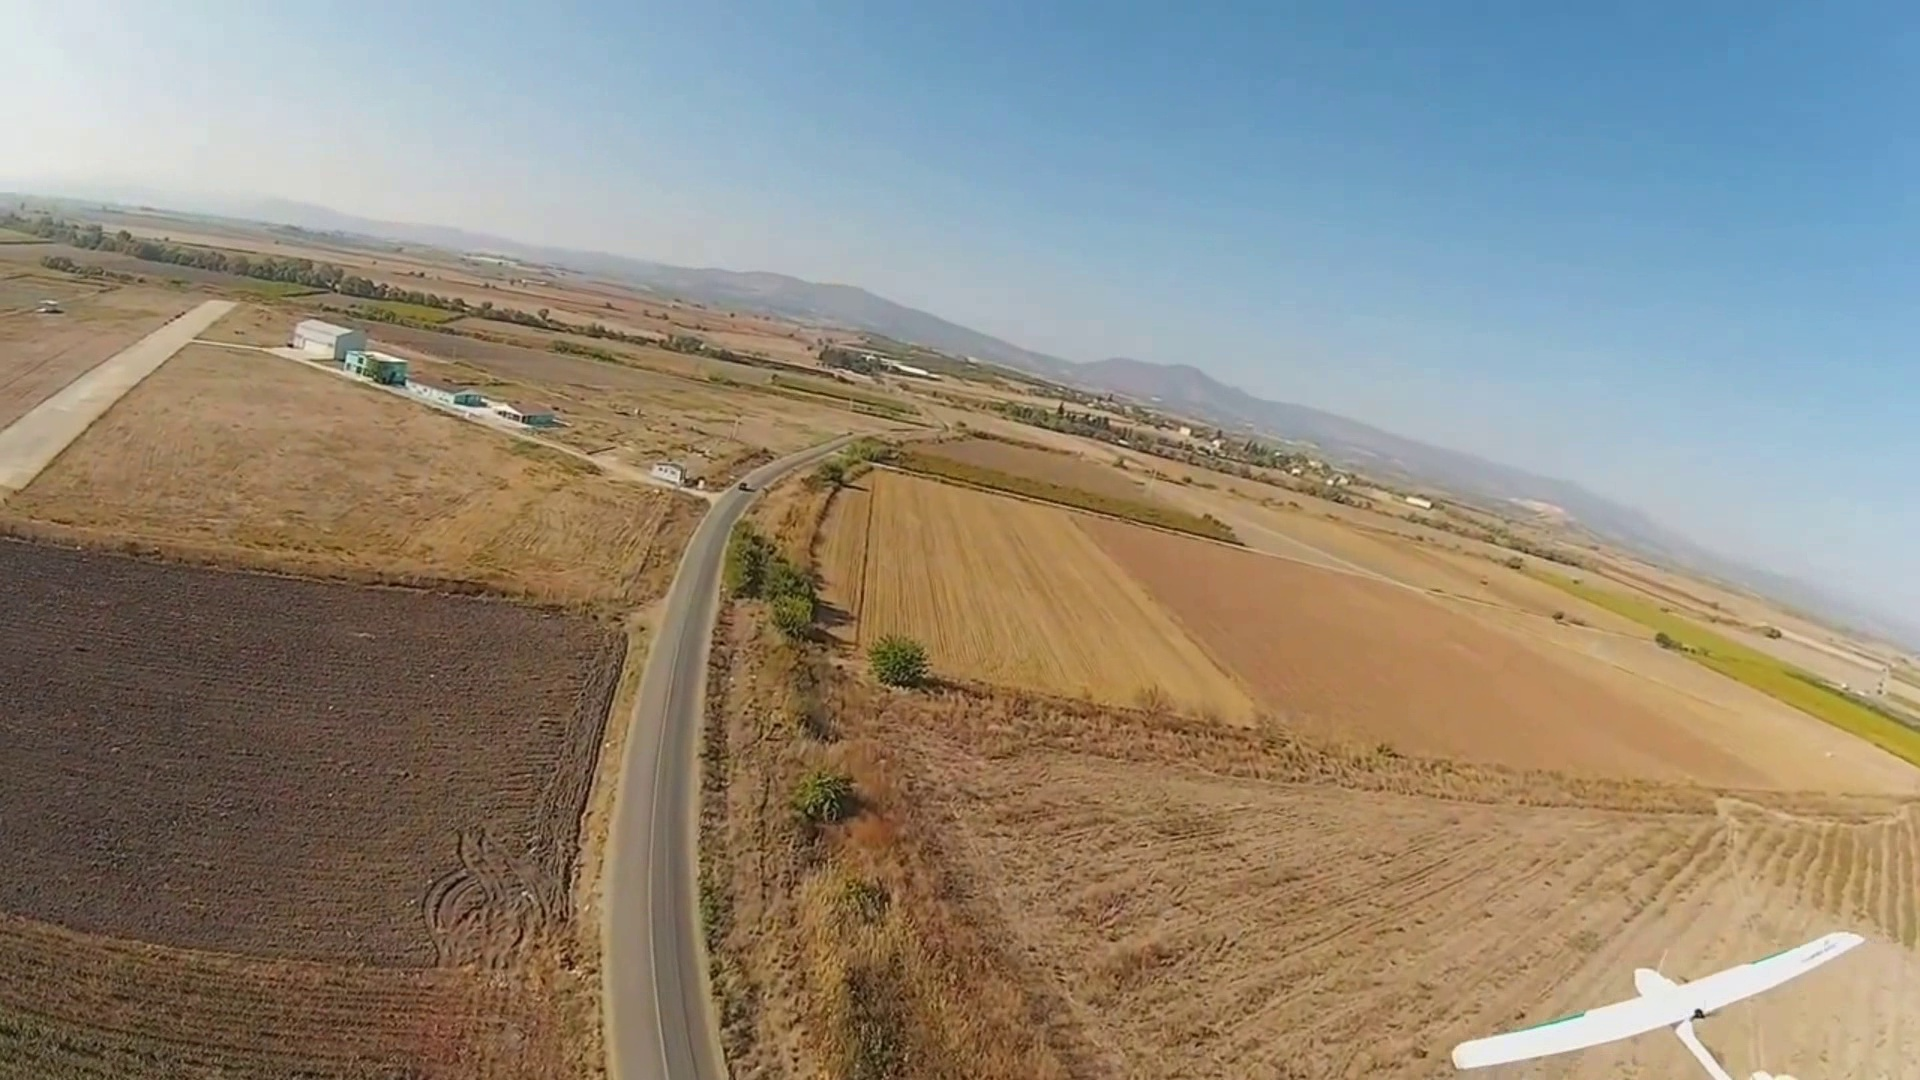airplane: (1452, 928, 1900, 1071)
